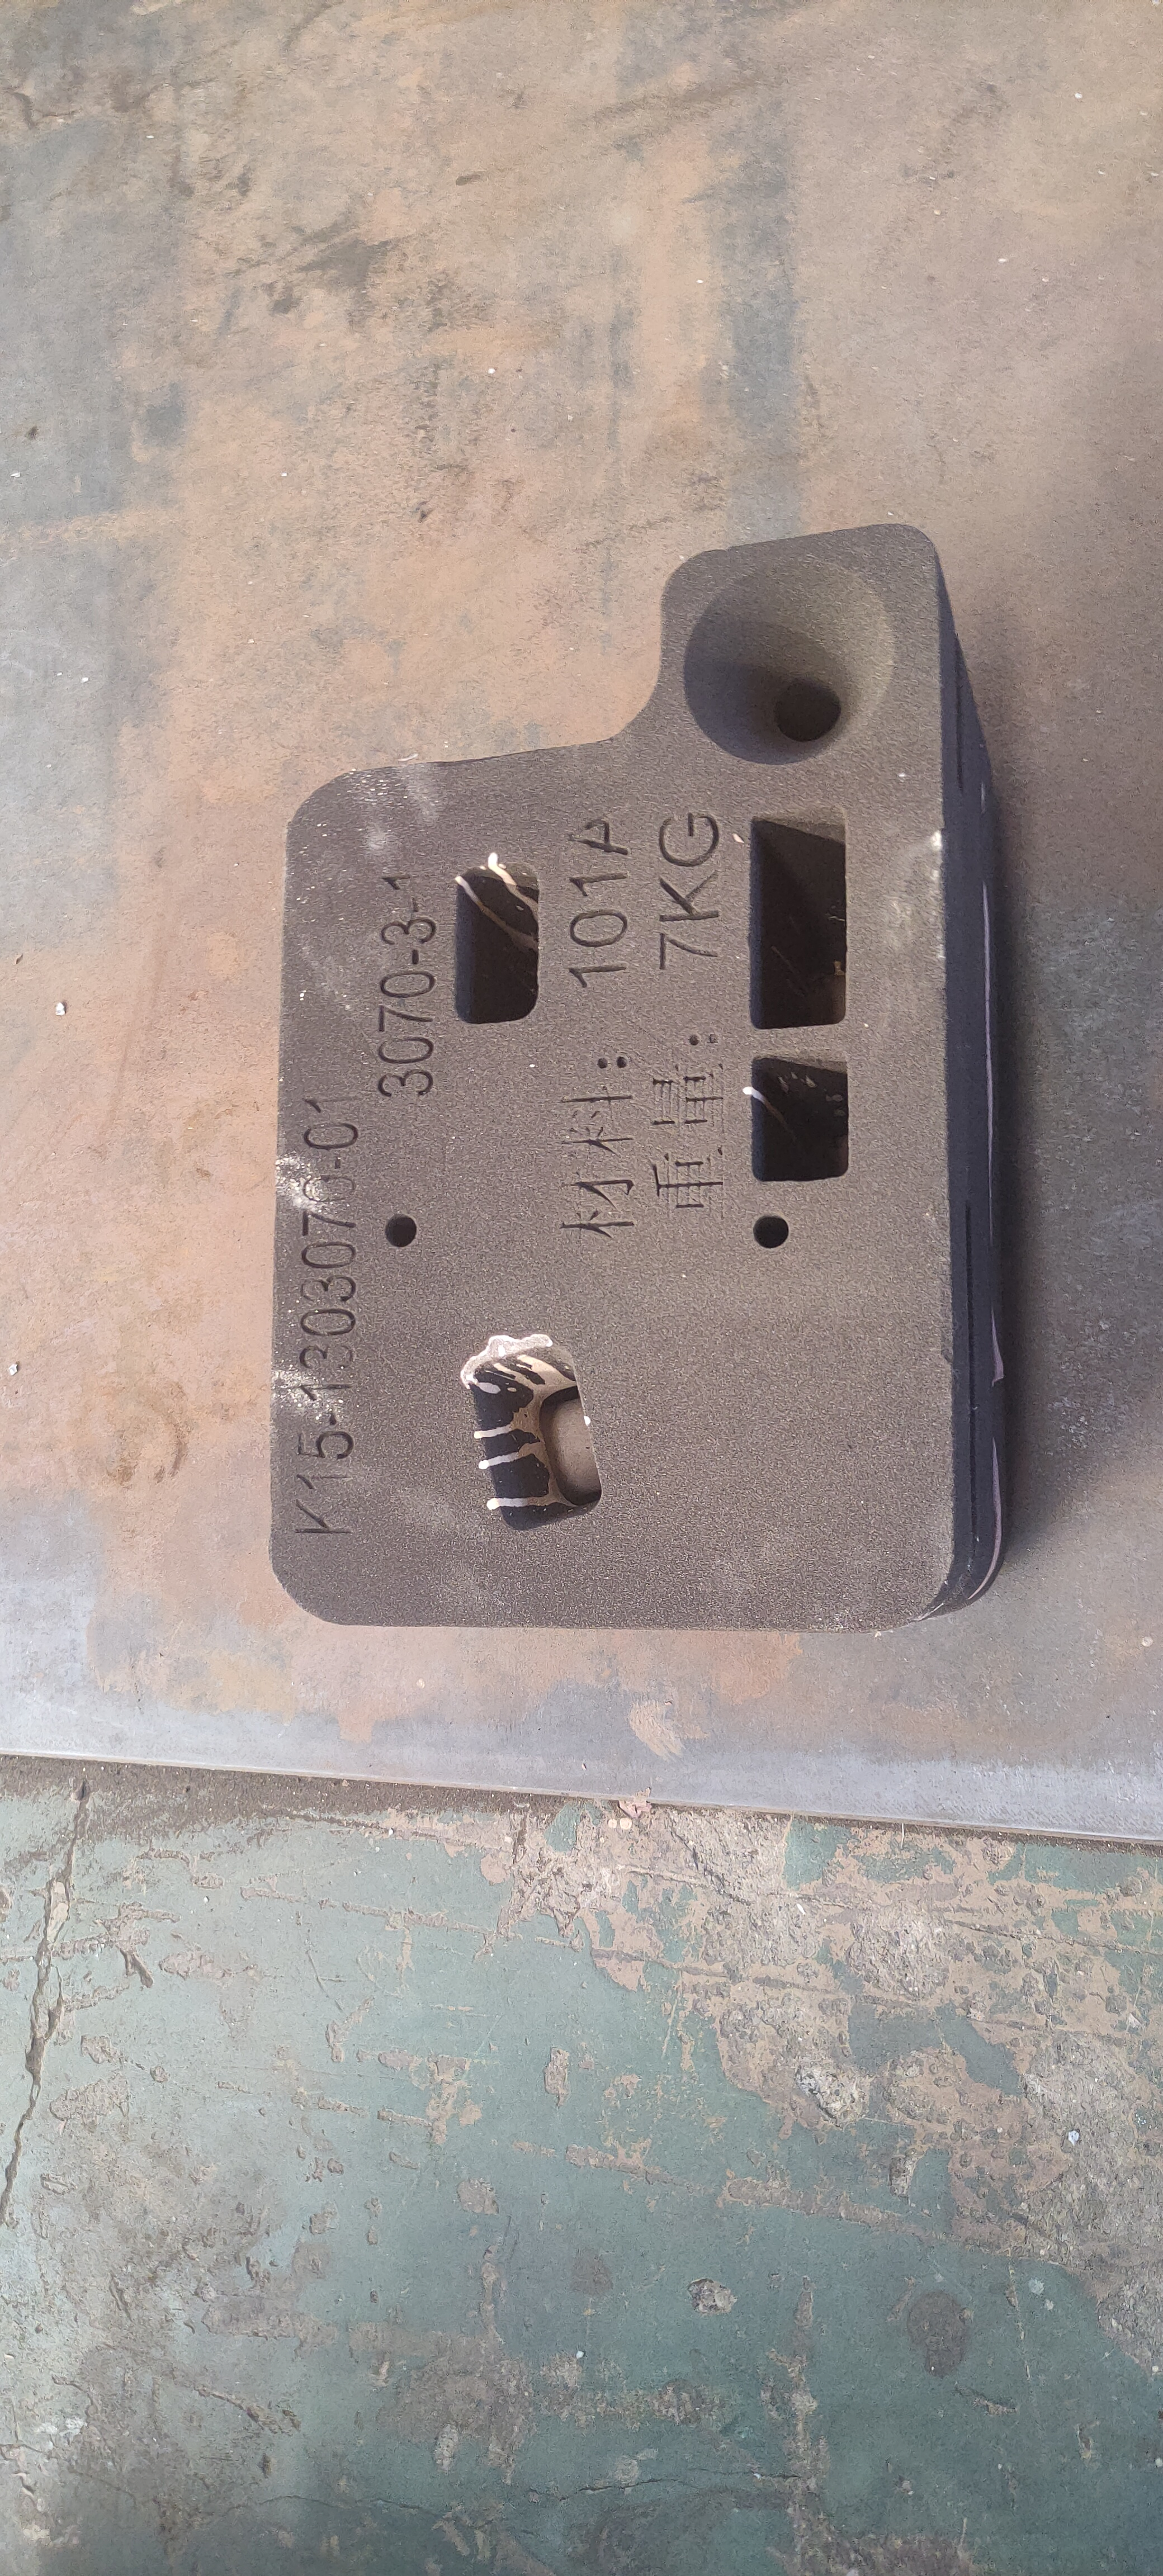pouring hole: (683, 555, 892, 764)
